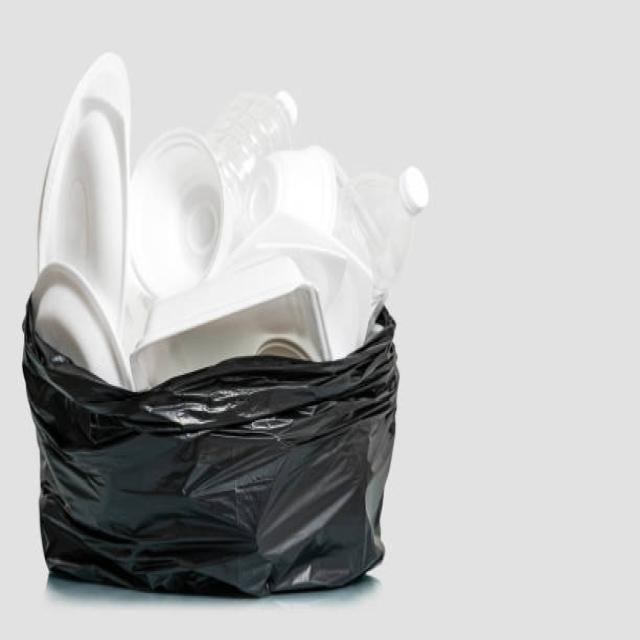plastic: (48, 76, 396, 340)
trash: (17, 38, 406, 591)
